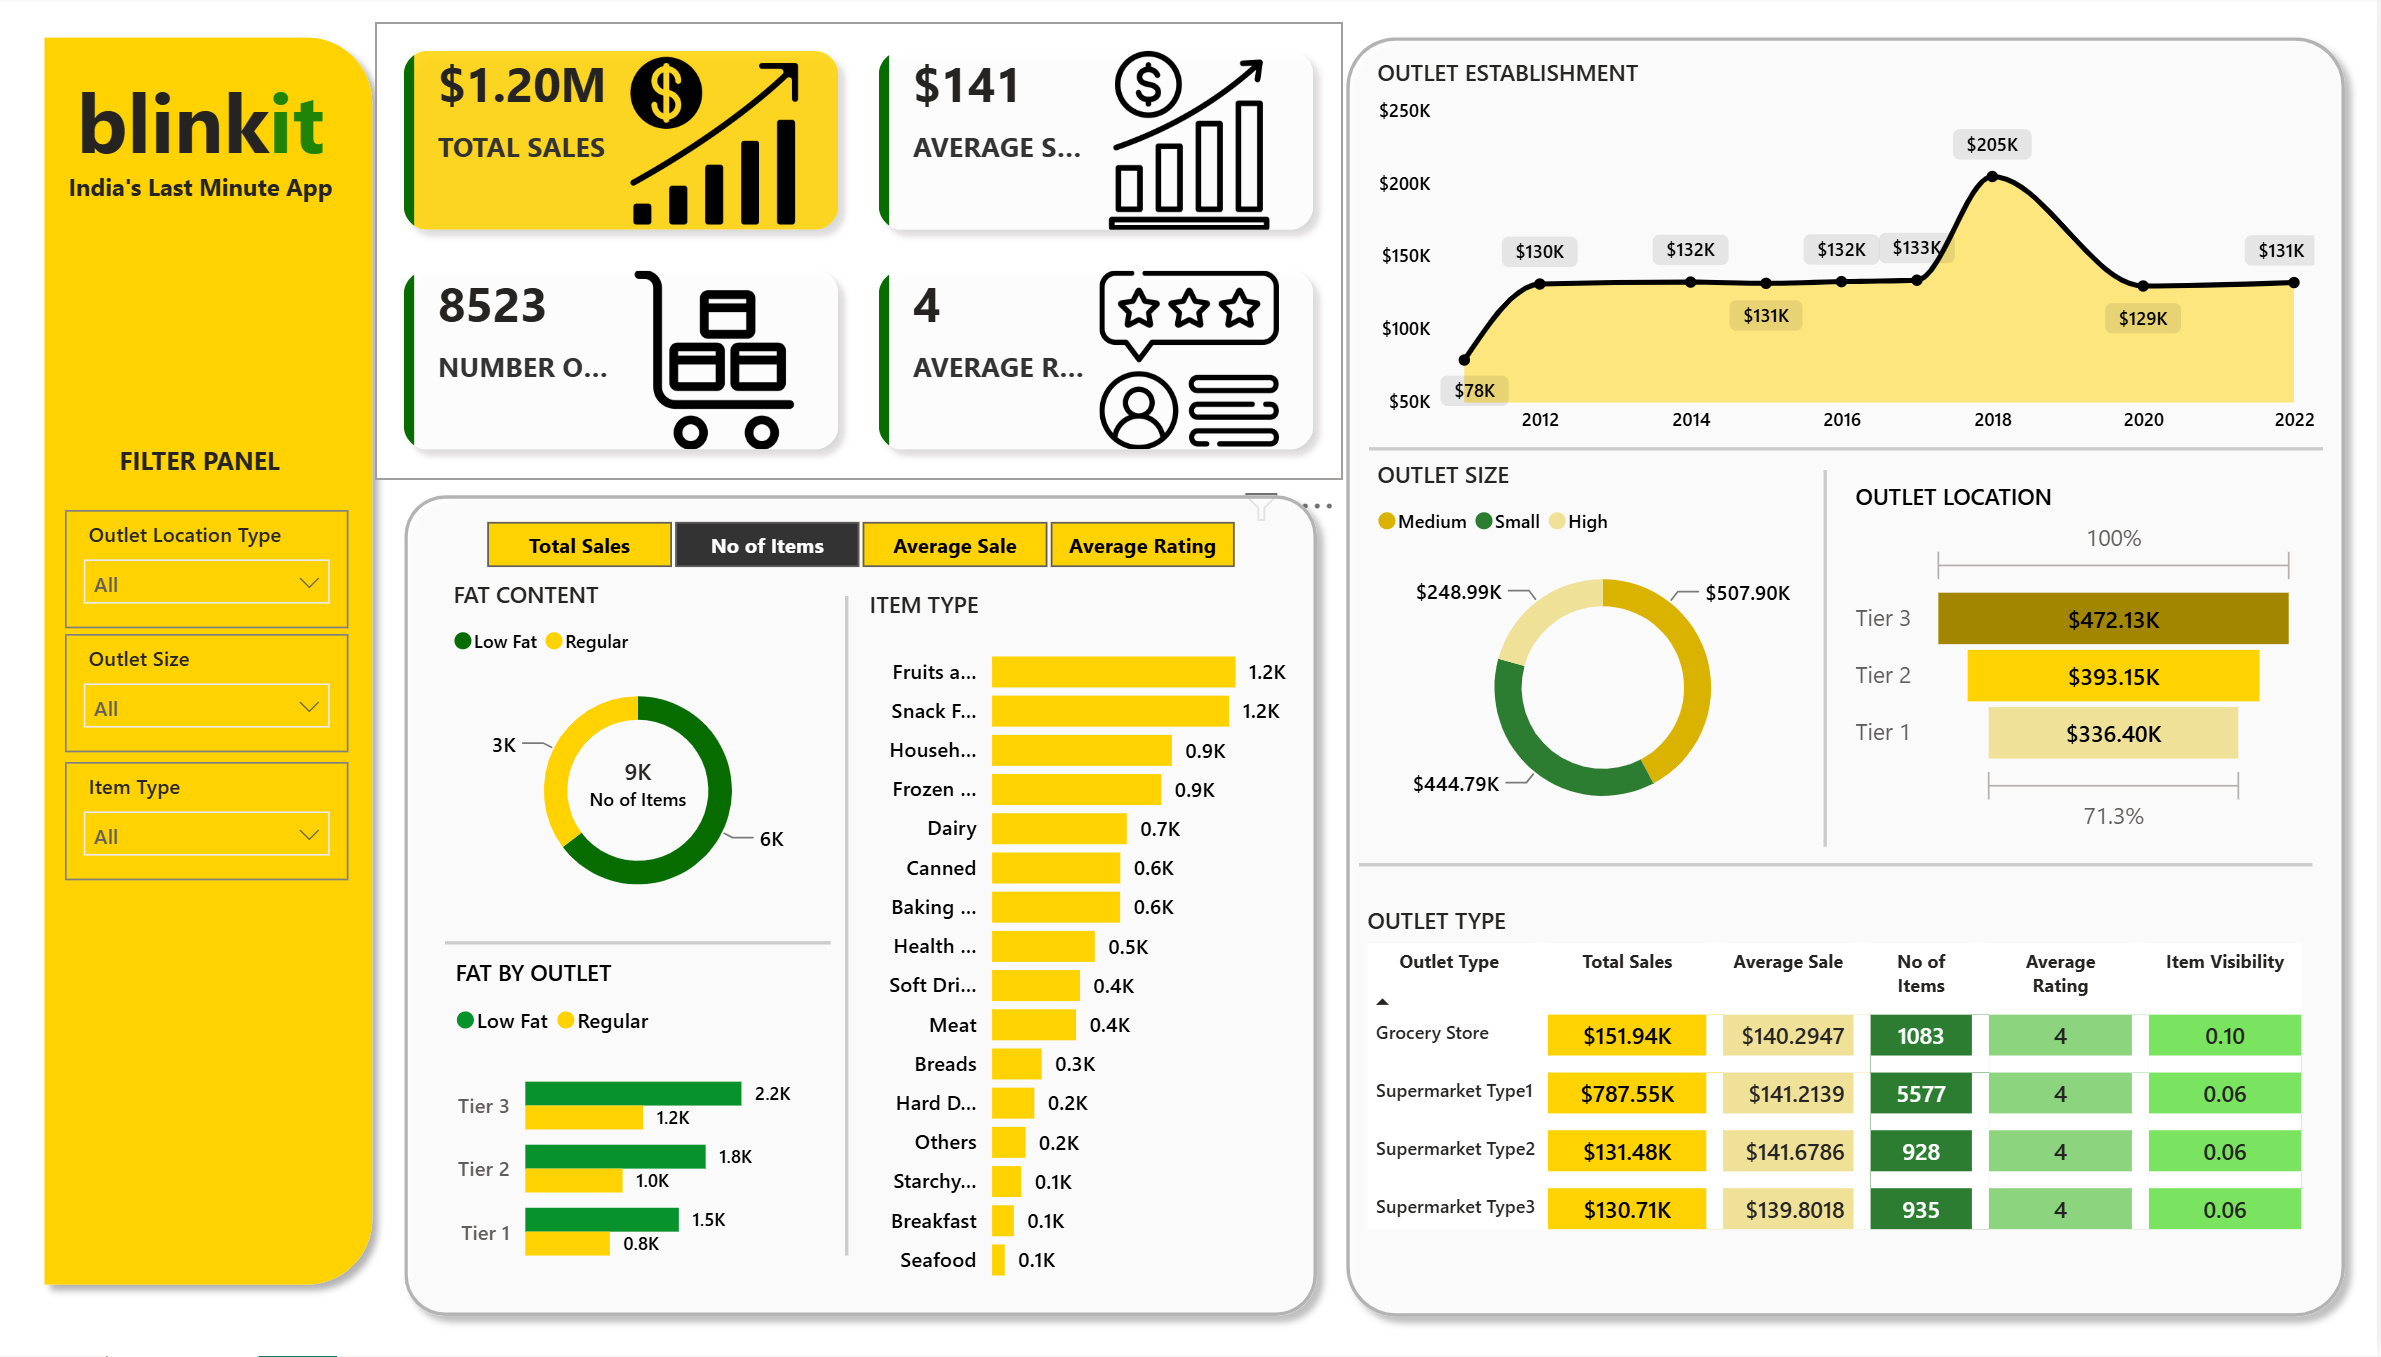

The page's visual inventory and layout, read from the dashboard file:
{"tool":"powerbi","page":{"name":"Page 1","canvas":[1400,800],"ordinal":0},"visuals":[{"type":"shape","box":[21.3,16,210.7,750.7],"z":0},{"type":"textbox","box":[33.5,36.2,175.6,80.4],"z":1000},{"type":"textbox","box":[33.5,99.2,175.6,34.9],"z":2000},{"type":"cardVisual","fields":{"Data":["BlinkIT Grocery Data.Total Sales","BlinkIT Grocery Data.Average Sale","BlinkIT Grocery Data.No of Items","BlinkIT Grocery Data.Average Rating"]},"box":[224.3,16.2,568.9,268.9],"z":3000},{"type":"shape","box":[232.4,285.1,554.1,500],"z":4000},{"type":"donutChart","title":"FAT CONTENT","fields":{"Y":["BlinkIT Grocery Data.No of Items"],"Category":["BlinkIT Grocery Data.Item Fat Content"]},"box":[265.4,343.2,226.5,205.1],"z":5000},{"type":"slicer","fields":{"Values":["Metrics.Metrics"]},"box":[264.9,302.7,489.2,40.5],"z":6000},{"type":"cardVisual","fields":{"Data":["BlinkIT Grocery Data.No of Items"]},"box":[331.1,430.3,95.2,67],"z":7000},{"type":"clusteredBarChart","title":"FAT BY OUTLET","fields":{"Y":["BlinkIT Grocery Data.No of Items"],"Series":["BlinkIT Grocery Data.Item Fat Content"],"Category":["BlinkIT Grocery Data.Outlet Location Type"]},"box":[266.7,565.3,226.7,197.3],"z":8000},{"type":"shape","box":[265.4,548.3,226.5,17.4],"z":9000},{"type":"shape","box":[493.3,353.9,16.1,387.4],"z":10000},{"type":"barChart","title":"ITEM TYPE","fields":{"Y":["BlinkIT Grocery Data.No of Items"],"Category":["BlinkIT Grocery Data.Item Type"]},"box":[509.4,348.5,256,418.2],"z":11000},{"type":"shape","box":[785.5,16.1,604.6,769.4],"z":12000},{"type":"lineChart","title":"OUTLET ESTABLISHMENT","fields":{"Category":["BlinkIT Grocery Data.Outlet Establishment Year"],"Y":["BlinkIT Grocery Data.Total Sales"]},"box":[808.3,36.2,560.3,230.6],"z":13000},{"type":"shape","box":[808.3,258.7,560.3,17.4],"z":14000},{"type":"donutChart","title":"OUTLET SIZE","fields":{"Y":["BlinkIT Grocery Data.Total Sales"],"Category":["BlinkIT Grocery Data.Outlet Size"]},"box":[808,272,274.7,225.3],"z":14001},{"type":"shape","box":[1070.7,280,12,221.3],"z":14002},{"type":"funnel","title":"OUTLET LOCATION","fields":{"Category":["BlinkIT Grocery Data.Outlet Location Type"],"Y":["BlinkIT Grocery Data.Total Sales"]},"box":[1088.5,285.5,269.4,211.8],"z":14003},{"type":"shape","box":[802.7,502.7,560,17.3],"z":14004},{"type":"pivotTable","title":"OUTLET TYPE","fields":{"Rows":["BlinkIT Grocery Data.Outlet Type"],"Values":["BlinkIT Grocery Data.Total Sales","BlinkIT Grocery Data.Average Sale","BlinkIT Grocery Data.No of Items","BlinkIT Grocery Data.Average Rating","Avg(BlinkIT Grocery Data.Item Visibility)"]},"box":[802.7,534.7,560,206.7],"z":14005},{"type":"slicer","fields":{"Values":["BlinkIT Grocery Data.Outlet Location Type"]},"box":[42.7,302.7,166.7,69.3],"z":14006},{"type":"slicer","fields":{"Values":["BlinkIT Grocery Data.Outlet Size"]},"box":[42.7,376,166.7,69.3],"z":14007},{"type":"slicer","fields":{"Values":["BlinkIT Grocery Data.Item Type"]},"box":[42.7,450.7,166.7,69.3],"z":14008},{"type":"textbox","box":[69.3,258.7,114.7,34.7],"z":14009}]}

Visuals, with their boxes in screenshot pixels (x1, y1, x2, y2), scaled from the page's 1400x800 canvas onto the 2381x1357 screenshot:
shape: locate(36, 27, 395, 1301)
textbox: locate(57, 61, 356, 198)
textbox: locate(57, 168, 356, 227)
cardVisual - BlinkIT Grocery Data.Total Sales x BlinkIT Grocery Data.Average Sale: locate(381, 27, 1349, 484)
shape: locate(395, 484, 1338, 1332)
"FAT CONTENT" donutChart: locate(451, 582, 837, 930)
slicer - Metrics.Metrics: locate(451, 513, 1283, 582)
cardVisual - BlinkIT Grocery Data.No of Items: locate(563, 730, 725, 844)
"FAT BY OUTLET" clusteredBarChart: locate(454, 959, 839, 1294)
shape: locate(451, 930, 837, 960)
shape: locate(839, 600, 866, 1257)
"ITEM TYPE" barChart: locate(866, 591, 1302, 1301)
shape: locate(1336, 27, 2364, 1332)
"OUTLET ESTABLISHMENT" lineChart: locate(1375, 61, 2328, 453)
shape: locate(1375, 439, 2328, 468)
"OUTLET SIZE" donutChart: locate(1374, 461, 1841, 844)
shape: locate(1821, 475, 1841, 850)
"OUTLET LOCATION" funnel: locate(1851, 484, 2309, 844)
shape: locate(1365, 853, 2318, 882)
"OUTLET TYPE" pivotTable: locate(1365, 907, 2318, 1258)
slicer - BlinkIT Grocery Data.Outlet Location Type: locate(73, 513, 356, 631)
slicer - BlinkIT Grocery Data.Outlet Size: locate(73, 638, 356, 755)
slicer - BlinkIT Grocery Data.Item Type: locate(73, 764, 356, 882)
textbox: locate(118, 439, 313, 498)
